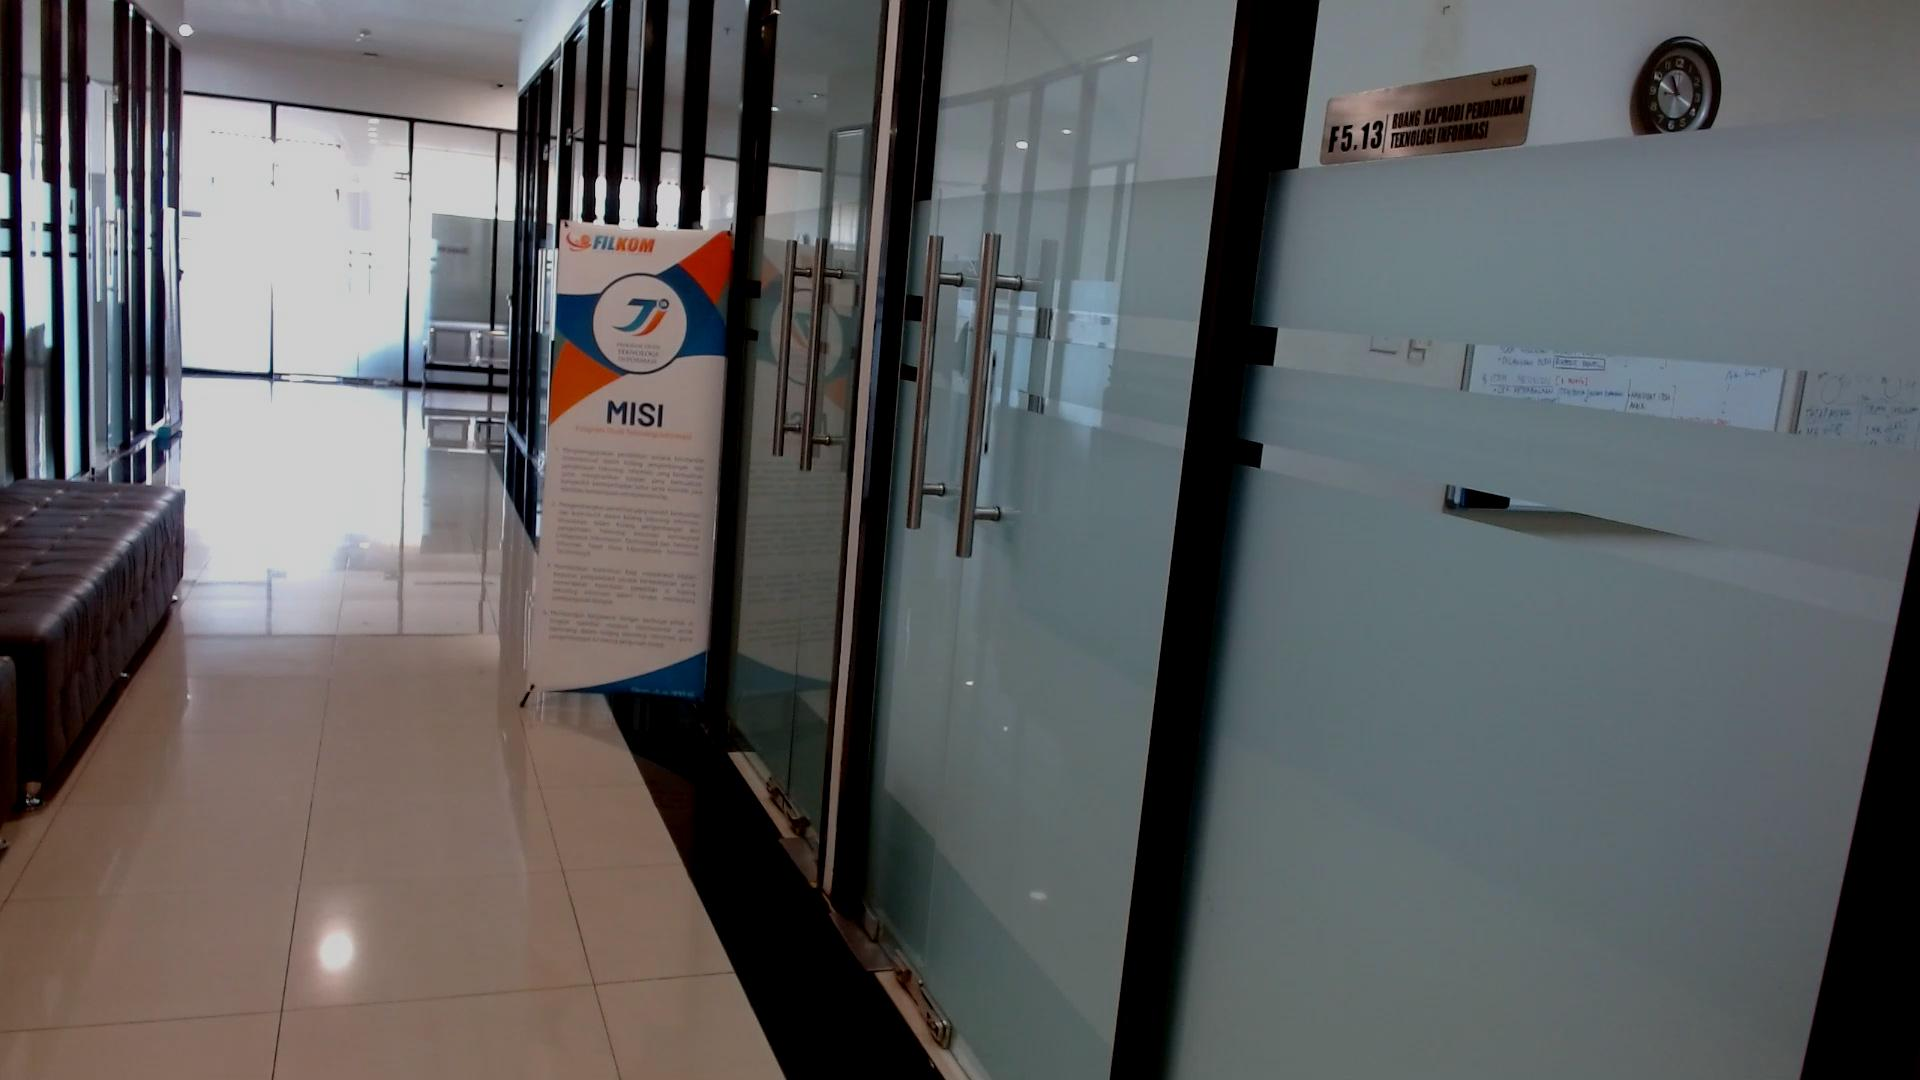plate: (1319, 65, 1539, 165)
